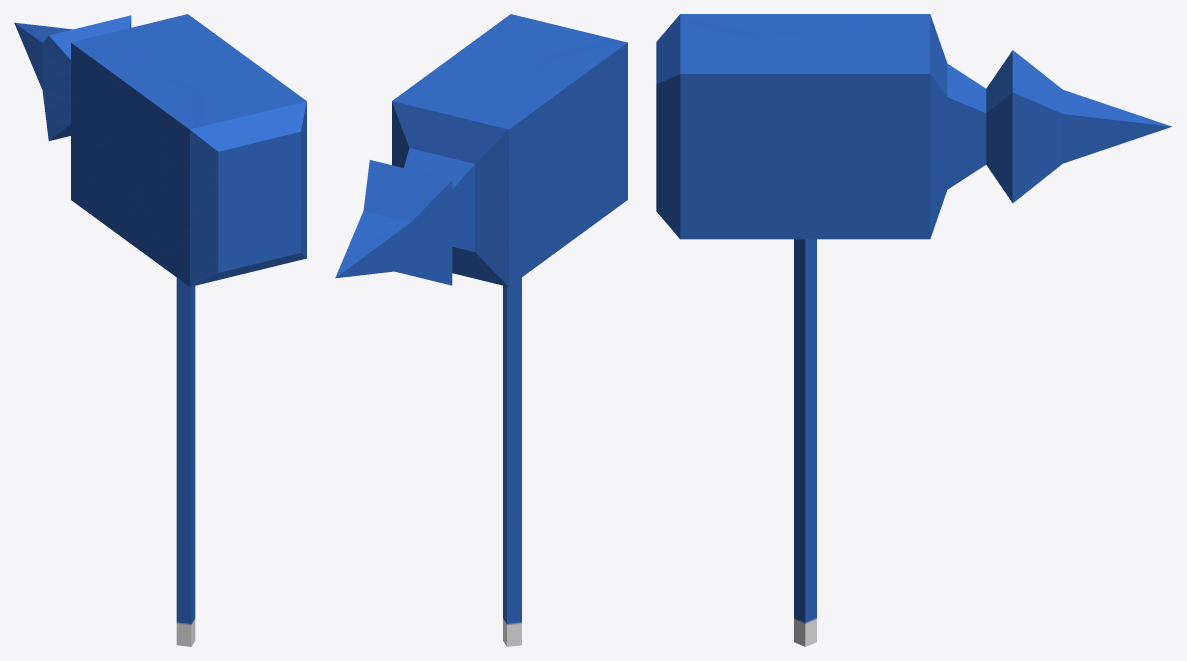
Rendered from Hammer.fbx.
The picture shows the model from 3 angles, left to right: view 1: azimuth 30°, elevation 25°; view 2: azimuth 150°, elevation 25°; view 3: azimuth 270°, elevation 25°; orthographic projection. The views are drawn at different scales.
Parts seen in each view (by area): view 1: Dragon; view 2: Dragon; view 3: Dragon.
Part boxes in pixels (x1,y1,x2,y2): Dragon: [14, 14, 306, 646]; Dragon: [335, 14, 627, 646]; Dragon: [656, 14, 1171, 646].
Bounding box in the file's own units: 2.55 × 11.87 × 9.26.
